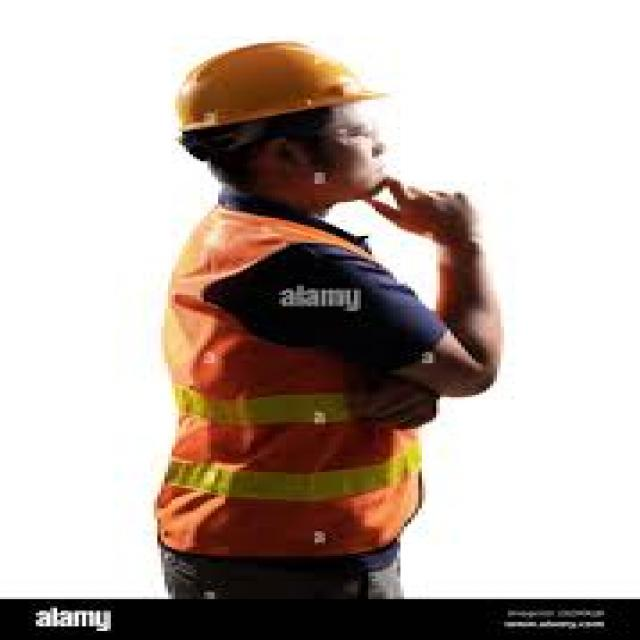Reflective-Jacket: (136, 200, 443, 560)
Safety-Helmet: (154, 34, 397, 143)
